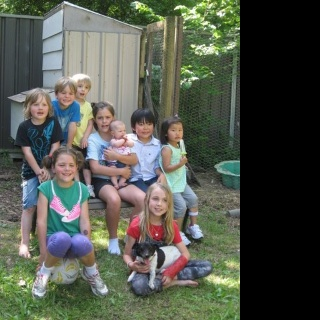without_mask: (55, 156, 76, 183), (148, 190, 167, 217), (30, 97, 49, 120), (96, 108, 112, 134), (57, 85, 74, 106), (136, 120, 154, 139), (167, 123, 183, 144), (74, 82, 90, 99), (115, 124, 125, 138)
